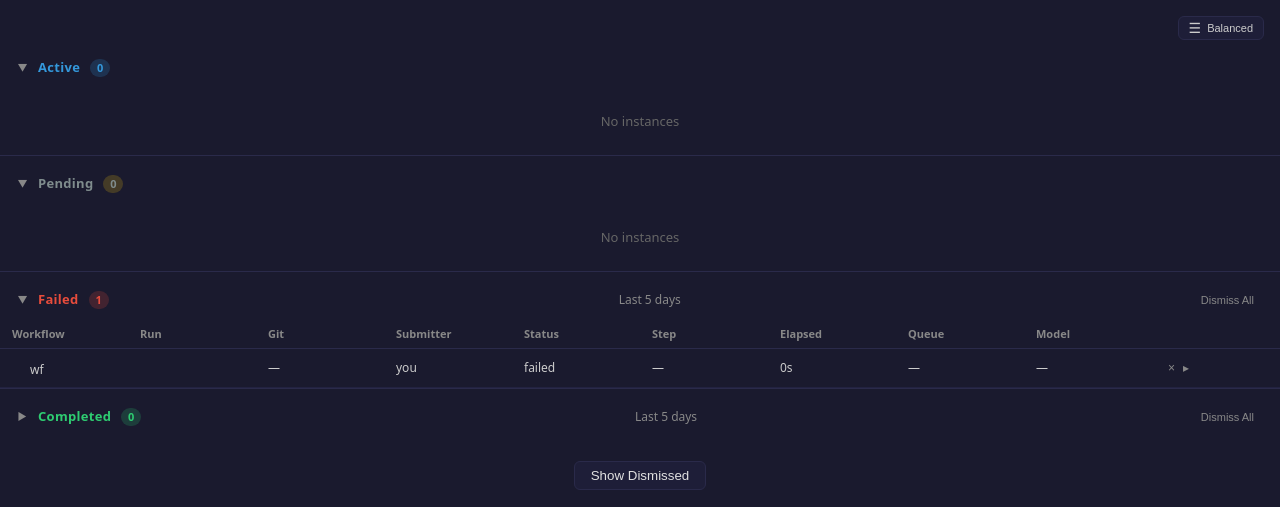
Test: QueueView dismiss handlers › handleDismiss: API failure surfaces an error and does not refetch
Expected: the button "Show Dismissed" is shown, [574,460,706,490]
Click the button named "Dismiss": {"x": 1172, "y": 368} [1164,359,1179,377]
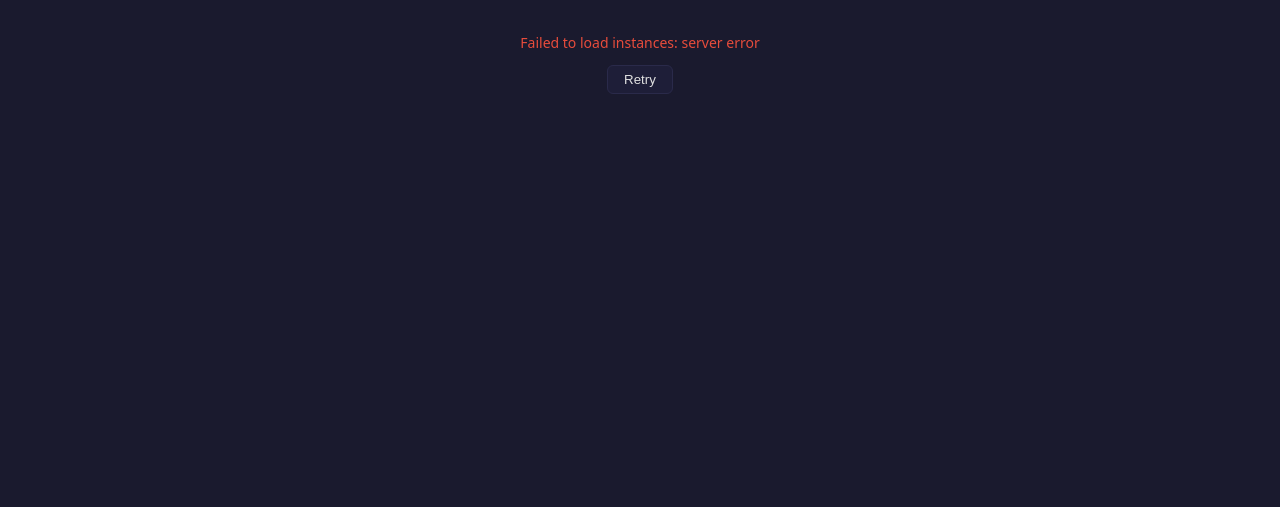
Now the text "Failed to load instances: server error" is shown, box [520,33,760,52]
